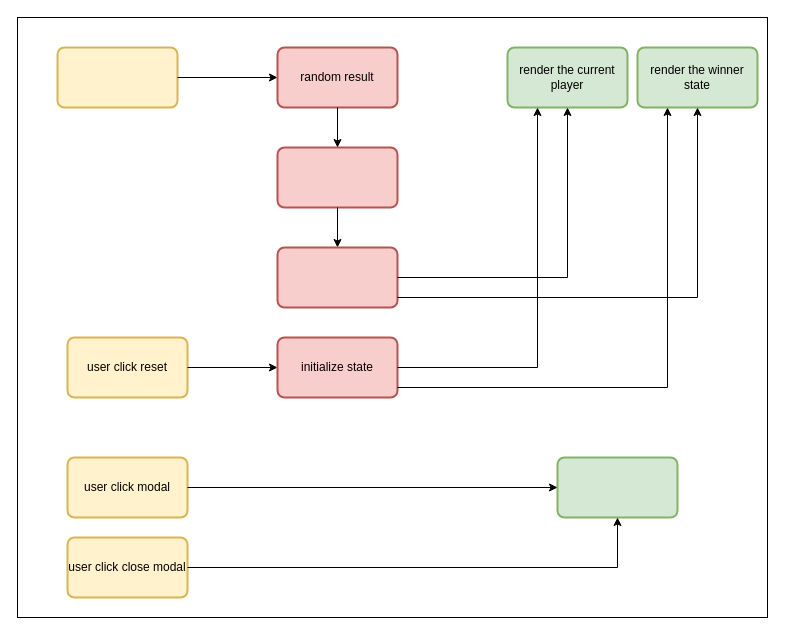
Image size: 785x635. Some labels were removed from this diagram. Each missing label, with the box of its shape:
change the current state: (276, 146, 398, 208)
check if win or not: (276, 246, 398, 308)
render modal: (556, 456, 678, 518)
user click hit: (56, 46, 178, 108)
